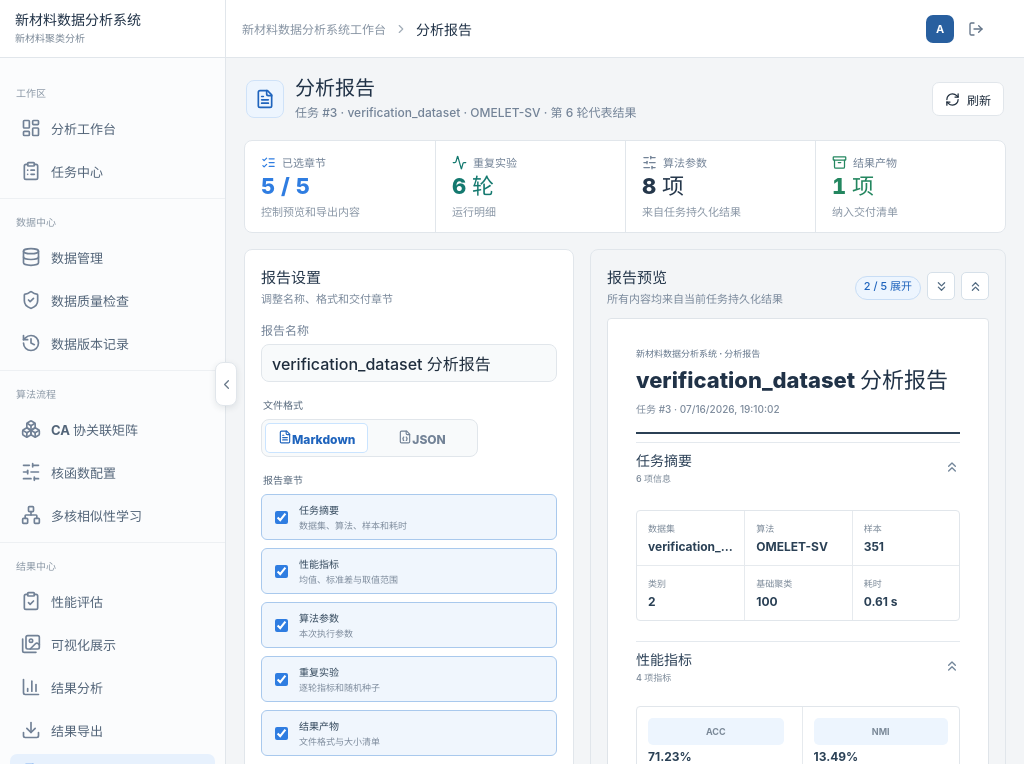
Test: dashboard homepage › updates the report preview when chapters and format change
This screenshot has width=1024, height=764.
Expected: the heading "分析报告" is shown, x1=295 y1=76 x2=375 y2=101
Expected: the text "2 / 5 展开" is shown, x1=855 y1=276 x2=921 y2=300
Click the button named "全部展开报告章节" at point(941, 286), box x1=927 y1=272 x2=955 y2=300
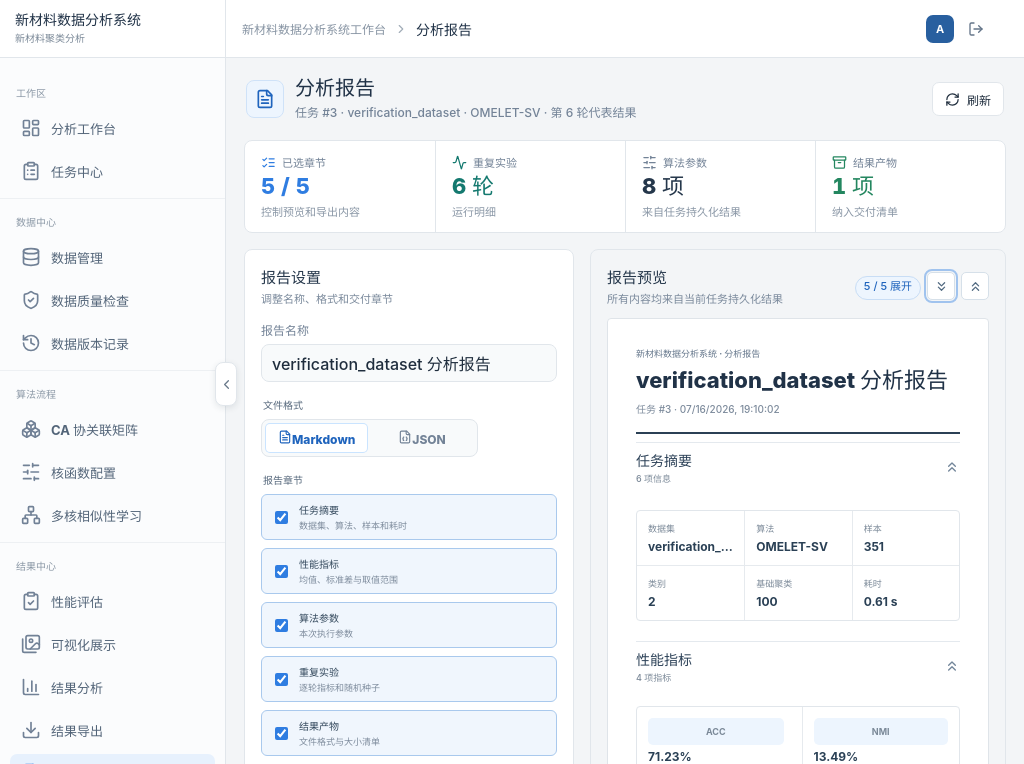
Expected: the text "5 / 5 展开" is shown, x1=855 y1=276 x2=921 y2=300
Click the button named "全部收起报告章节" at point(975, 286), box x1=961 y1=272 x2=989 y2=300
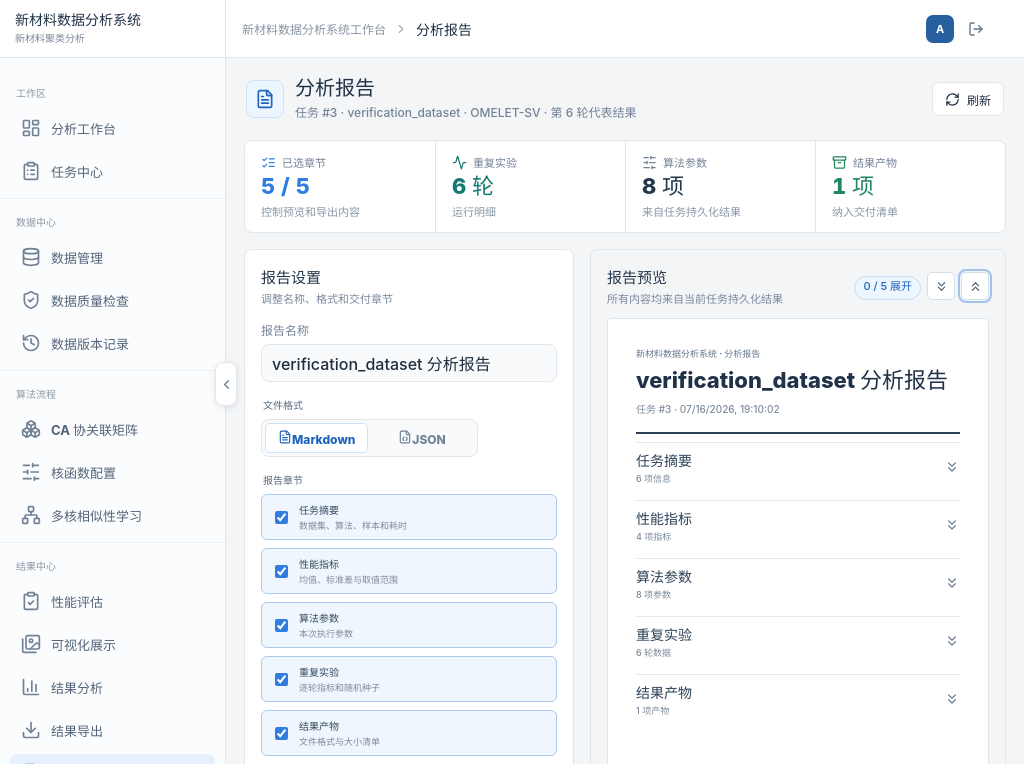
Expected: the text "0 / 5 展开" is shown, x1=854 y1=276 x2=921 y2=300
Click the checkbox labelled "重复实验 逐轮指标和随机种子" at point(282, 679), box x1=275 y1=673 x2=288 y2=686
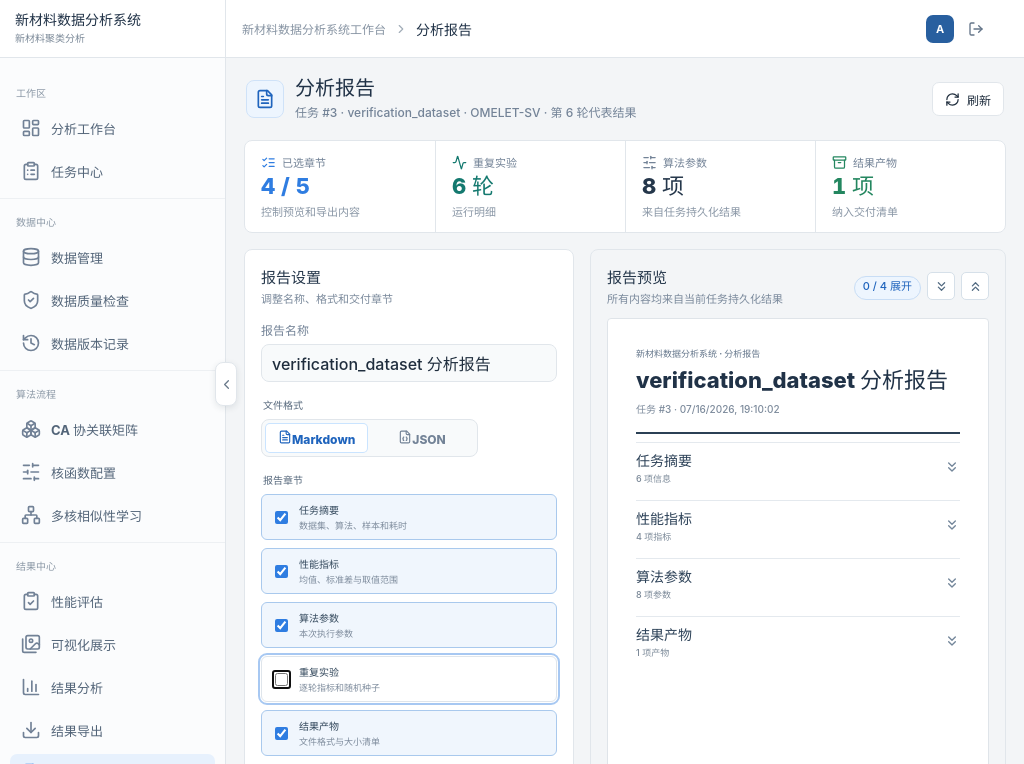
Click the button "JSON" at point(422, 438), box x1=370 y1=423 x2=474 y2=453
(page scrolled)
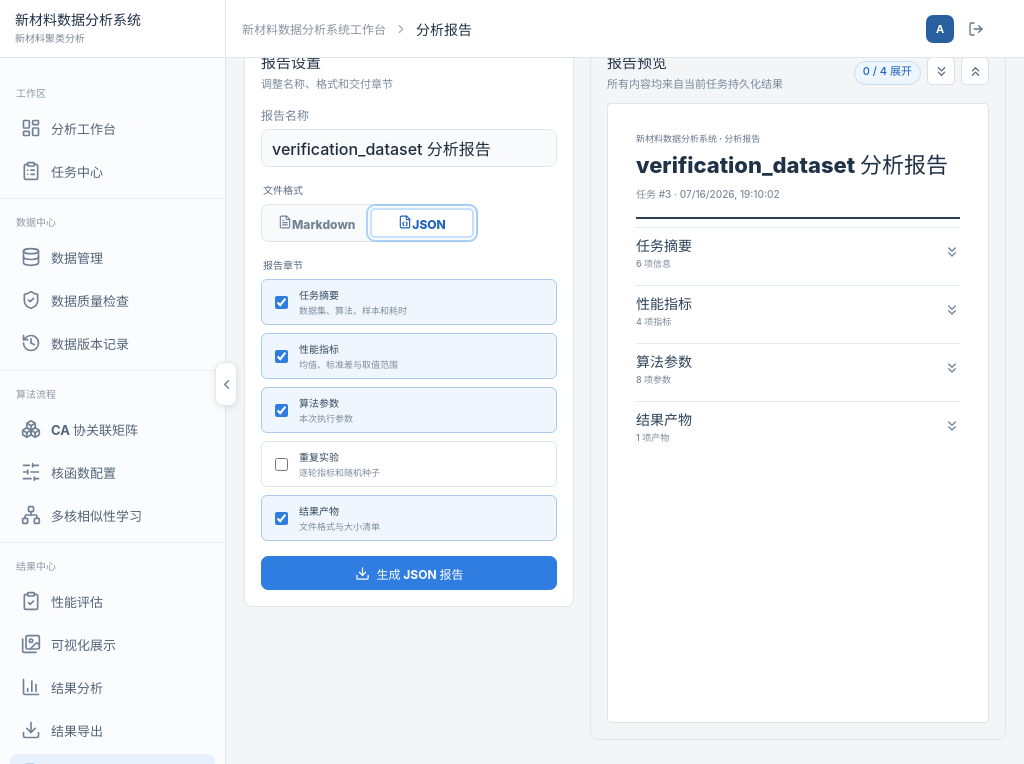
Expected: the button "生成 JSON 报告" is shown, x1=261 y1=556 x2=557 y2=590
